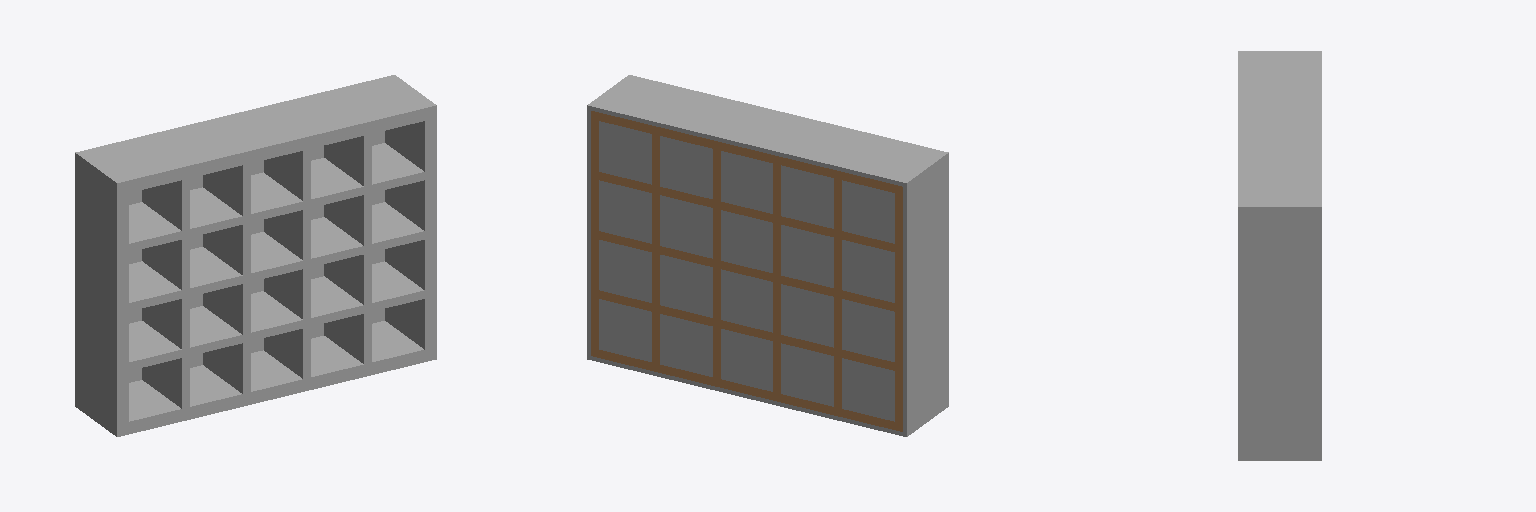
3 views of the same model, side by side, from view 1: azimuth 30°, elevation 25°; view 2: azimuth 150°, elevation 25°; view 3: azimuth 270°, elevation 25° (orthographic).
Visible parts, largest first — view 1: closet5; view 2: closet5; view 3: closet5.
Boxes of the visible parts, <box> form: closet5: <box>75,75,436,436</box>; closet5: <box>587,75,948,436</box>; closet5: <box>1238,51,1321,460</box>.
Bounding box in the file's own units: 7.9 × 6 × 1.8.
Materials: 1 (1 with a texture image).